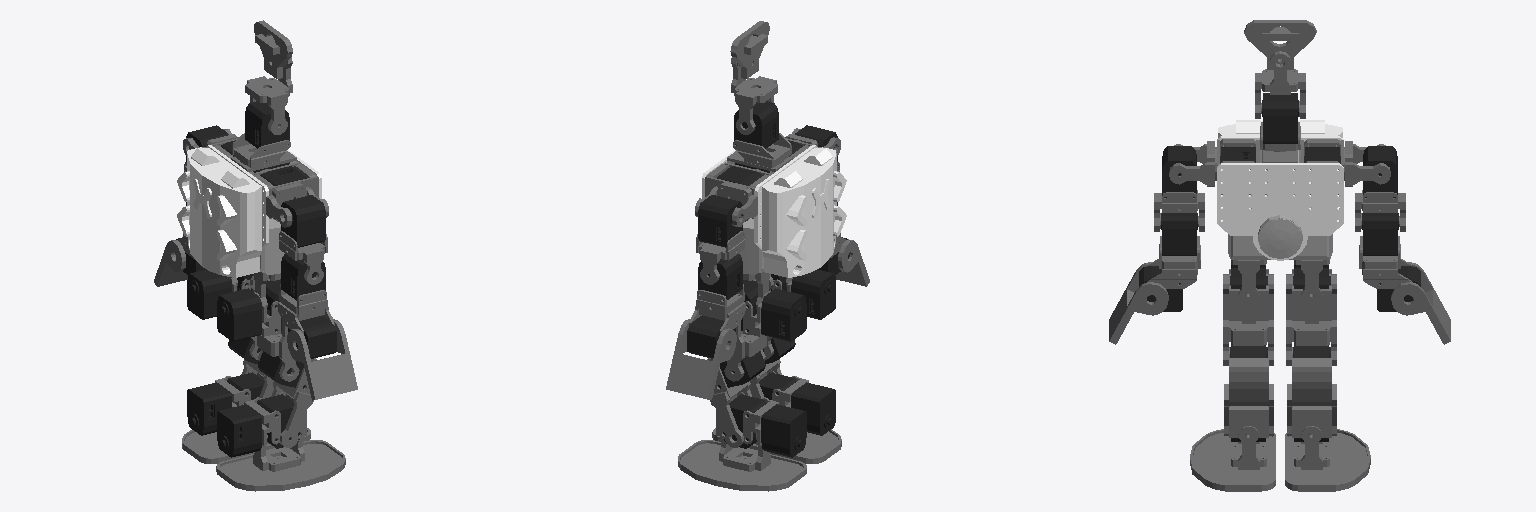
--- Facts derived from the render (not from the file) ---
The picture shows the robot from 3 angles, left to right: view 1: azimuth 30°, elevation 25°; view 2: azimuth 150°, elevation 25°; view 3: azimuth 270°, elevation 25°; orthographic projection.
Model kxrl2l5a3g with 25 links and 24 joints (18 revolute, 6 fixed), rooted at torso, posed all joints at 0.
Visible links, largest first — view 1: torso, RLEG_LINK4, RARM_LINK2, RLEG_LINK3, HEAD_LINK1, RLEG_LINK0, RARM_LINK1, LLEG_LINK3, RARM_LINK3, HEAD_LINK0, RLEG_LINK2, LLEG_LINK0 (+5 smaller); view 2: torso, LLEG_LINK4, LARM_LINK2, LLEG_LINK3, HEAD_LINK1, LARM_LINK1, LLEG_LINK0, RLEG_LINK3, LARM_LINK3, HEAD_LINK0, LLEG_LINK2, RLEG_LINK0 (+5 smaller); view 3: torso, RLEG_LINK4, LLEG_LINK4, HEAD_LINK1, RARM_LINK2, LARM_LINK2, RLEG_LINK2, LLEG_LINK2, LARM_LINK1, RARM_LINK1, HEAD_LINK0, LLEG_LINK1 (+9 smaller).
Link boxes in pixels (bbox=[...]): torso: bbox=[177, 138, 321, 306]; RLEG_LINK4: bbox=[216, 435, 345, 491]; RARM_LINK2: bbox=[278, 254, 336, 358]; RLEG_LINK3: bbox=[217, 392, 306, 457]; HEAD_LINK1: bbox=[245, 20, 292, 134]; RLEG_LINK0: bbox=[217, 279, 281, 341]; RARM_LINK1: bbox=[279, 195, 327, 284]; LLEG_LINK3: bbox=[187, 370, 264, 435]; RARM_LINK3: bbox=[287, 319, 357, 400]; HEAD_LINK0: bbox=[232, 101, 290, 168]; RLEG_LINK2: bbox=[258, 351, 316, 447]; LLEG_LINK0: bbox=[187, 269, 252, 319]; torso: bbox=[702, 138, 846, 308]; LLEG_LINK4: bbox=[678, 433, 806, 491]; LARM_LINK2: bbox=[687, 254, 745, 358]; LLEG_LINK3: bbox=[716, 392, 806, 457]; HEAD_LINK1: bbox=[730, 21, 777, 134]; LARM_LINK1: bbox=[696, 195, 744, 284]; LLEG_LINK0: bbox=[741, 280, 806, 341]; RLEG_LINK3: bbox=[759, 370, 835, 435]; LARM_LINK3: bbox=[666, 319, 736, 399]; HEAD_LINK0: bbox=[733, 101, 791, 167]; LLEG_LINK2: bbox=[707, 351, 765, 447]; RLEG_LINK0: bbox=[771, 269, 835, 319]; torso: bbox=[1215, 120, 1344, 304]; RLEG_LINK4: bbox=[1190, 426, 1275, 491]; LLEG_LINK4: bbox=[1285, 426, 1370, 491]; HEAD_LINK1: bbox=[1244, 20, 1316, 118]; RARM_LINK2: bbox=[1139, 213, 1200, 311]; LARM_LINK2: bbox=[1359, 213, 1420, 311]; RLEG_LINK2: bbox=[1224, 345, 1273, 435]; LLEG_LINK2: bbox=[1287, 345, 1336, 435]; LARM_LINK1: bbox=[1355, 146, 1405, 231]; RARM_LINK1: bbox=[1154, 146, 1204, 231]; HEAD_LINK0: bbox=[1260, 93, 1300, 150]; LLEG_LINK1: bbox=[1286, 274, 1336, 365].
Size in the robot's own frame: 0.1065 by 0.255 by 0.367 metres.
Meshes: 21 distinct files referenced, 21 mesh visuals loaded (21 Collada DAE).

The robot description file, URDF, robot "kxrl2l5a3g":
<?xml version="1.0"?>
<robot name="kxrl2l5a3g"
       xmlns:xi="http://www.w3.org/2001/XInclude">
  <link name="torso">
    <visual>
      <origin xyz="-8e-06 0 0.191982" rpy="0 -0 0"/>
      <geometry>
        <mesh filename="../meshes/torso_mesh.dae" scale="1 1 1" />
      </geometry>
    </visual>
    <collision>
      <origin xyz="-0.010000 0.00000 0.020000" rpy="0.00000000 -0.00000000 0.00000000"/>
      <geometry>
        <box size="0.07000 0.08 0.08" />
      </geometry>
    </collision>
    <inertial>
      <!-- from rcb4eus -->
      <!-- <mass value="0.583234" /> -->
      <!-- real robot w/o battery: 0.583234 - 0.296 = 0.287234; only compensate the real weight by torso adjustment -->
      <mass value="0.287234" />
      <origin xyz="0 0 0" rpy="0 -0 0"/>
      <inertia ixx="0.001179" ixy="-8.41182e-06" ixz="-1.70062e-06" iyy="0.001167" iyz="1.49116e-06" izz="0.001999"/>
    </inertial>
  </link>
  <link name="HEAD_LINK0">
    <visual>
      <origin xyz="-0.00725 0 0.061" rpy="0 -0 0"/>
      <geometry>
        <mesh filename="../meshes/HEAD_LINK0_mesh.dae" scale="1 1 1" />
      </geometry>
    </visual>
    <inertial>
      <mass value="0.03752" />
      <origin xyz="0.008278 -1.86739e-06 0.020216" rpy="0 -0 0"/>
      <inertia ixx="3.88837e-05" ixy="-3.94e-12" ixz="6.70242e-09" iyy="4.27546e-05" iyz="-6.02408e-09" izz="2.51931e-05"/>
    </inertial>
  </link>
  <link name="HEAD_LINK1">
    <visual>
      <origin xyz="0.0105 0 0.033" rpy="0 -0 0"/>
      <geometry>
        <mesh filename="../meshes/HEAD_LINK1_mesh.dae" scale="1 1 1" />
      </geometry>
    </visual>
    <collision>
      <origin xyz="0.00000 0.0000 -0.0080" rpy="0.00000000 -0.00000000 0.00000000"/>
      <geometry>
        <box size="0.025 0.025 0.03" />
      </geometry>
    </collision>
    <inertial>
      <mass value="0.024597" />
      <!-- <origin xyz="0.004067 2.59182e-19 0.008603" rpy="0 -0 0"/> -->
      <origin xyz="0.004067 4.0547e-19 0.008603" rpy="0 -0 0"/>
      <inertia ixx="9.7242e-05" ixy="-2.28993e-09" ixz="1.36484e-07" iyy="8.87817e-05" iyz="-1.71513e-08" izz="1.3887e-05"/>
    </inertial>
  </link>
  <link name="LARM_LINK0">
    <visual>
      <origin xyz="-0.00725 0.0485 0.0435" rpy="0 -0 0"/>
      <geometry>
        <mesh filename="../meshes/LARM_LINK0_mesh.dae" scale="1 1 1" />
      </geometry>
    </visual>
    <inertial>
      <mass value="0.01195" />
      <origin xyz="2.60209e-18 0 0.010386" rpy="0 -0 0"/>
      <inertia ixx="2.28576e-05" ixy="-9.80842e-10" ixz="6.34046e-10" iyy="1.18146e-05" iyz="1.5468e-08" izz="1.61687e-05"/>
    </inertial>
  </link>
  <link name="LARM_LINK1">
    <visual>
      <origin xyz="0 0.026 0" rpy="0 -0 0"/>
      <geometry>
        <mesh filename="../meshes/LARM_LINK1_mesh.dae" scale="1 1 1" />
      </geometry>
    </visual>
    <collision>
      <origin xyz="0.00000 0.0000 -0.0080" rpy="0.00000000 -0.00000000 0.00000000"/>
      <geometry>
        <box size="0.025 0.025 0.03" />
      </geometry>
    </collision>
    <collision>
      <origin xyz="0.0 0.0000 -0.030" rpy="0.00000000 -0.00000000 0.00000000"/>
      <geometry>
        <box size="0.028 0.028 0.006" />
      </geometry>
    </collision>
    <inertial>
      <mass value="0.041025" />
      <origin xyz="0 0 -0.01644" rpy="0 -0 0"/>
      <inertia ixx="5.49194e-05" ixy="-6.71102e-10" ixz="8.95645e-09" iyy="2.53332e-05" iyz="6.90862e-09" izz="5.98969e-05"/>
    </inertial>
  </link>
  <link name="LARM_LINK2">
    <visual>
      <origin xyz="0 0 -0.047" rpy="0 -0 0"/>
      <geometry>
        <mesh filename="../meshes/LARM_LINK2_mesh.dae" scale="1 1 1" />
      </geometry>
    </visual>
    <collision>
      <origin xyz="0.00000 0.0000 -0.008" rpy="0.00000000 -0.00000000 0.00000000"/>
      <geometry>
        <box size="0.025 0.025 0.03" />
      </geometry>
    </collision>
    <collision>
      <origin xyz="0.00000 0.0130 -0.055" rpy="0.00000000 -0.00000000 0.00000000"/>
      <geometry>
        <box size="0.025 0.03 0.025" />
      </geometry>
    </collision>
    <collision>
      <origin xyz="0.0 0.0000 -0.033" rpy="0.00000000 -0.00000000 0.00000000"/>
      <geometry>
        <box size="0.028 0.028 0.010" />
      </geometry>
    </collision>
    <inertial>
      <mass value="0.071724" />
      <origin xyz="0 0 -0.012787" rpy="0 -0 0"/>
      <inertia ixx="9.38809e-05" ixy="-3.94e-12" ixz="1.53141e-08" iyy="5.47619e-05" iyz="-1.12819e-08" izz="9.84962e-05"/>
    </inertial>
  </link>
  <link name="LARM_LINK3">
    <visual>
      <origin xyz="0 0.021 -0.0555" rpy="0 -0 0"/>
      <geometry>
        <mesh filename="../meshes/LARM_LINK3_mesh.dae" scale="1 1 1" />
      </geometry>
    </visual>
    <collision>
      <!-- <origin xyz="0.00000 0.0225 -0.022" rpy="${-1.0471975512 - 0.05} -0.00000000 0.00000000"/> -->
      <origin xyz="0.00000 0.0225 -0.022" rpy="-1.0971975512 -0.00000000 0.00000000"/>
      <geometry>
        <box size="0.04 0.03 0.006" />
      </geometry>
    </collision>
    <inertial>
      <mass value="0.013908" />
      <origin xyz="-3.46945e-18 0.035082 -0.036273" rpy="0 -0 0"/>
      <inertia ixx="5.39534e-05" ixy="-2.54028e-09" ixz="-2.35822e-09" iyy="2.3568e-05" iyz="-1.52851e-07" izz="4.68022e-05"/>
    </inertial>
  </link>
  <link name="LLEG_LINK0">
    <visual>
      <origin xyz="0 0.0235 -0.052" rpy="0 -0 0"/>
      <geometry>
        <mesh filename="../meshes/LLEG_LINK0_mesh.dae" scale="1 1 1" />
      </geometry>
    </visual>
    <collision>
      <origin xyz="-0.035 0.0000 -0.0080" rpy="0.00000000 -0.00000000 0.00000000"/>
      <geometry>
        <box size="0.025 0.025 0.03" />
      </geometry>
    </collision>
    <collision>
      <origin xyz="0.00000 0.0000 -0.0080" rpy="0.00000000 -0.00000000 0.00000000"/>
      <geometry>
        <box size="0.025 0.025 0.03" />
      </geometry>
    </collision>
    <inertial>
      <mass value="0.061776" />
      <origin xyz="-0.015804 -3.46945e-18 -0.00811" rpy="0 -0 0"/>
      <inertia ixx="4.81066e-05" ixy="1.50384e-08" ixz="-2.07075e-08" iyy="5.46135e-05" iyz="-1.15288e-07" izz="4.88736e-05"/>
    </inertial>
  </link>
  <link name="LLEG_LINK1">
    <visual>
      <origin xyz="0 0 0" rpy="0 -0 0"/>
      <geometry>
        <mesh filename="../meshes/LLEG_LINK1_mesh.dae" scale="1 1 1" />
      </geometry>
    </visual>
    <collision>
      <origin xyz="0.0 0.0000 -0.038" rpy="0.00000000 -0.00000000 0.00000000"/>
      <geometry>
        <box size="0.028 0.028 0.012" />
      </geometry>
    </collision>
    <inertial>
      <mass value="0.025166" />
      <origin xyz="2.87307e-19 -3.46945e-18 -0.032713" rpy="0 -0 0"/>
      <inertia ixx="6.74466e-05" ixy="-2.27142e-09" ixz="1.80148e-09" iyy="6.14497e-05" iyz="3.35902e-08" izz="1.35243e-05"/>
    </inertial>
  </link>
  <link name="LLEG_LINK2">
    <visual>
      <origin xyz="0 0 -0.058" rpy="0 -0 0"/>
      <geometry>
        <mesh filename="../meshes/LLEG_LINK2_mesh.dae" scale="1 1 1" />
      </geometry>
    </visual>
    <collision>
      <!-- <origin xyz="0.00000 0.00 -0.00" rpy="0.00000000 ${0.52359877559 - 0.07} 0.00000000"/> -->
      <!-- <origin xyz="0.00700 0.00 -0.003" rpy="0.00000000 0.45359877559 0.00000000"/> -->
      <origin xyz="0.01000 0.00 -0.0045" rpy="0.00000000 0.45359877559 0.00000000"/>
      <geometry>
        <box size="0.03 0.025 0.025" />
      </geometry>
    </collision>
    <inertial>
      <!-- from rcb4eus -->
      <mass value="0.055049" />
      <!-- real robot 3304R2: 0.055049 + 0.0073 = 0.062349 -->
      <!-- <mass value="0.062349" /> -->
      <origin xyz="0.010892 0 -0.013685" rpy="0 -0 0"/>
      <inertia ixx="0.00013" ixy="5.70585e-08" ixz="1.76606e-08" iyy="0.000122" iyz="-6.55478e-07" izz="3.84933e-05"/>
    </inertial>
  </link>
  <link name="LLEG_LINK3">
    <visual>
      <origin xyz="0 0 -0.057976" rpy="0 -0 0"/>
      <geometry>
        <mesh filename="../meshes/LLEG_LINK3_mesh.dae" scale="1 1 1" />
      </geometry>
    </visual>
    <collision>
      <origin xyz="-0.035 0.0000 0.0080" rpy="0.00000000 -0.00000000 0.00000000"/>
      <geometry>
        <box size="0.025 0.025 0.03" />
      </geometry>
    </collision>
    <collision>
      <origin xyz="0.00000 0.0000 0.0080" rpy="0.00000000 -0.00000000 0.00000000"/>
      <geometry>
        <box size="0.025 0.025 0.03" />
      </geometry>
    </collision>
    <inertial>
      <!-- from rcb4eus -->
      <mass value="0.061776" />
      <!-- real robot 3304R2 x 2: 0.061776 + 0.0073 x 2 = 0.076376 -->
      <!-- <mass value="0.076376" /> -->
      <origin xyz="-0.015804 -3.46945e-18 -0.00811" rpy="0 -0 0"/>
      <inertia ixx="0.000134" ixy="1.50384e-08" ixz="-2.07075e-08" iyy="0.00014" iyz="-1.15288e-07" izz="4.88736e-05"/>
    </inertial>
  </link>
  <link name="LLEG_LINK4">
    <visual>
      <origin xyz="0 0 0" rpy="0 -0 0"/>
      <geometry>
        <mesh filename="../meshes/LLEG_LINK4_mesh.dae" scale="1 1 1" />
      </geometry>
    </visual>
    <collision>
      <origin xyz="0.0 0.0000 -0.025" rpy="0.00000000 -0.00000000 0.00000000"/>
      <geometry>
        <box size="0.028 0.028 0.006" />
      </geometry>
    </collision>
    <!-- method 1: approximation by 1 box -->
    <!-- <collision> -->
    <!--   <!-\- <origin xyz="0.00000 0.0100 -0.029" rpy="0.00000000 -0.00000000 0.00000000"/> -\-> -->
    <!--   <origin xyz="0.00000 0.0100 -0.029" rpy="0.00000000 -0.00000000 0.00000000"/> -->
    <!--   <geometry> -->
    <!--     <box size="0.1 0.06 0.004" /> -->
    <!--     <!-\- <box size="0.1 0.04 0.004" /> -\-> -->
    <!--   </geometry> -->
    <!-- </collision> -->
    <!-- method 2: approximation by 2 boxes -->
    <collision>
      <!-- <origin xyz="0.00000 0.000 -0.029" rpy="0.00000000 -0.00000000 0.00000000"/> -->
      <!-- add small offset to avoid 2 feet get collisin -->
      <origin xyz="0.00000 0.0040 -0.029" rpy="0.00000000 -0.00000000 0.00000000"/>
      <geometry>
        <box size="0.1 0.04 0.004" />
      </geometry>
    </collision>
    <collision>
      <!-- <origin xyz="0.00000 0.0300 -0.029" rpy="0.00000000 -0.00000000 0.00000000"/> -->
      <!-- add small offset to avoid 2 feet get collisin -->
      <origin xyz="0.00000 0.03400 -0.029" rpy="0.00000000 -0.00000000 0.00000000"/>
      <geometry>
        <box size="0.08 0.02 0.004" />
      </geometry>
    </collision>
    <!-- method 3: approximation by overlay of 2 spheres and 1 box -->
    <!-- <collision> -->
    <!--   <origin xyz="0.02000 0.0100 -0.029" rpy="0.00000000 -0.00000000 0.00000000"/> -->
    <!--   <geometry> -->
    <!--     <cylinder length="0.004" radius="0.03" /> -->
    <!--   </geometry> -->
    <!-- </collision> -->
    <!-- <collision> -->
    <!--   <origin xyz="-0.02000 0.0100 -0.029" rpy="0.00000000 -0.00000000 0.00000000"/> -->
    <!--   <geometry> -->
    <!--     <cylinder length="0.004" radius="0.03" /> -->
    <!--   </geometry> -->
    <!-- </collision> -->
    <!-- <collision> -->
    <!--   <origin xyz="0.00000 0.0100 -0.029" rpy="0.00000000 -0.00000000 0.00000000"/> -->
    <!--   <geometry> -->
    <!--     <box size="0.06 0.06 0.004" /> -->
    <!--   </geometry> -->
    <!-- </collision> -->
    <inertial>
      <mass value="0.034088" />
      <origin xyz="-7.61549e-06 0.005841 -0.024808" rpy="0 -0 0"/>
      <inertia ixx="0.000284" ixy="6.51398e-09" ixz="1.25882e-08" iyy="0.000186" iyz="-2.42528e-07" izz="0.000103"/>
    </inertial>
  </link>
  <link name="RARM_LINK0">
    <visual>
      <origin xyz="-0.00725 -0.049 0.0435" rpy="0 -0 0"/>
      <geometry>
        <mesh filename="../meshes/RARM_LINK0_mesh.dae" scale="1 1 1" />
      </geometry>
    </visual>
    <inertial>
      <mass value="0.01195" />
      <origin xyz="2.60209e-18 0 0.010386" rpy="0 -0 0"/>
      <inertia ixx="2.30389e-05" ixy="-9.80842e-10" ixz="6.34046e-10" iyy="1.18146e-05" iyz="1.5468e-08" izz="1.63501e-05"/>
    </inertial>
  </link>
  <link name="RARM_LINK1">
    <visual>
      <origin xyz="0 -0.026 0" rpy="0 -0 0"/>
      <geometry>
        <mesh filename="../meshes/RARM_LINK1_mesh.dae" scale="1 1 1" />
      </geometry>
    </visual>
    <collision>
      <origin xyz="0.00000 0.0000 -0.00800" rpy="0.00000000 -0.00000000 0.00000000"/>
      <geometry>
        <box size="0.025 0.025 0.03" />
      </geometry>
    </collision>
    <collision>
      <origin xyz="0.0 0.0000 -0.030" rpy="0.00000000 -0.00000000 0.00000000"/>
      <geometry>
        <box size="0.028 0.028 0.006" />
      </geometry>
    </collision>
    <inertial>
      <mass value="0.041025" />
      <origin xyz="0 0 -0.01644" rpy="0 -0 0"/>
      <inertia ixx="5.53679e-05" ixy="-6.71102e-10" ixz="8.95645e-09" iyy="2.53332e-05" iyz="6.90862e-09" izz="6.03453e-05"/>
    </inertial>
  </link>
  <link name="RARM_LINK2">
    <visual>
      <origin xyz="0 0 -0.047" rpy="0 -0 0"/>
      <geometry>
        <mesh filename="../meshes/RARM_LINK2_mesh.dae" scale="1 1 1" />
      </geometry>
    </visual>
    <collision>
      <origin xyz="0.00000 0.0000 -0.008" rpy="0.00000000 -0.00000000 0.00000000"/>
      <geometry>
        <box size="0.025 0.025 0.03" />
      </geometry>
    </collision>
    <collision>
      <origin xyz="0.00000 -0.0130 -0.055" rpy="0.00000000 -0.00000000 0.00000000"/>
      <geometry>
        <box size="0.025 0.03 0.025" />
      </geometry>
    </collision>
    <collision>
      <origin xyz="0.0 0.0000 -0.033" rpy="0.00000000 -0.00000000 0.00000000"/>
      <geometry>
        <box size="0.028 0.028 0.010" />
      </geometry>
    </collision>
    <inertial>
      <mass value="0.071724" />
      <origin xyz="0 0 -0.012787" rpy="0 -0 0"/>
      <inertia ixx="9.45007e-05" ixy="-3.94e-12" ixz="1.53141e-08" iyy="5.47619e-05" iyz="-1.12819e-08" izz="9.91161e-05"/>
    </inertial>
  </link>
  <link name="RARM_LINK3">
    <visual>
      <origin xyz="0 -0.021 -0.0555" rpy="0 -0 0"/>
      <geometry>
        <mesh filename="../meshes/RARM_LINK3_mesh.dae" scale="1 1 1" />
      </geometry>
    </visual>
    <collision>
      <!-- <origin xyz="0.00000 -0.0225 -0.022" rpy="${1.0471975512 + 0.05} -0.00000000 0.00000000"/> -->
      <origin xyz="0.00000 -0.0225 -0.022" rpy="1.0971975512 -0.00000000 0.00000000"/>
      <geometry>
        <box size="0.04 0.03 0.006" />
      </geometry>
    </collision>
    <inertial>
      <mass value="0.013908" />
      <origin xyz="1.73472e-18 -0.035082 -0.036273" rpy="0 -0 0"/>
      <inertia ixx="5.42657e-05" ixy="-2.54028e-09" ixz="-2.35822e-09" iyy="2.3568e-05" iyz="-1.52851e-07" izz="4.71146e-05"/>
    </inertial>
  </link>
  <link name="RLEG_LINK0">
    <visual>
      <origin xyz="0 -0.0235 -0.052" rpy="0 -0 0"/>
      <geometry>
        <mesh filename="../meshes/RLEG_LINK0_mesh.dae" scale="1 1 1" />
      </geometry>
    </visual>
    <collision>
      <origin xyz="-0.035 0.0000 -0.0080" rpy="0.00000000 -0.00000000 0.00000000"/>
      <geometry>
        <box size="0.025 0.025 0.03" />
      </geometry>
    </collision>
    <collision>
      <origin xyz="0.00000 0.0000 -0.0080" rpy="0.00000000 -0.00000000 0.00000000"/>
      <geometry>
        <box size="0.025 0.025 0.03" />
      </geometry>
    </collision>
    <inertial>
      <mass value="0.061776" />
      <origin xyz="-0.015804 -3.46945e-18 -0.00811" rpy="0 -0 0"/>
      <inertia ixx="4.81066e-05" ixy="1.50384e-08" ixz="-2.07075e-08" iyy="5.46135e-05" iyz="-1.15288e-07" izz="4.88736e-05"/>
    </inertial>
  </link>
  <link name="RLEG_LINK1">
    <visual>
      <origin xyz="0 0 0" rpy="0 -0 0"/>
      <geometry>
        <mesh filename="../meshes/RLEG_LINK1_mesh.dae" scale="1 1 1" />
      </geometry>
    </visual>
    <collision>
      <origin xyz="0.0 0.0000 -0.038" rpy="0.00000000 -0.00000000 0.00000000"/>
      <geometry>
        <box size="0.028 0.028 0.012" />
      </geometry>
    </collision>
    <inertial>
      <mass value="0.025166" />
      <origin xyz="2.87307e-19 -3.46945e-18 -0.032713" rpy="0 -0 0"/>
      <inertia ixx="6.74466e-05" ixy="-2.27142e-09" ixz="1.80148e-09" iyy="6.14497e-05" iyz="3.35902e-08" izz="1.35243e-05"/>
    </inertial>
  </link>
  <link name="RLEG_LINK2">
    <visual>
      <origin xyz="0 0 -0.058" rpy="0 -0 0"/>
      <geometry>
        <mesh filename="../meshes/RLEG_LINK2_mesh.dae" scale="1 1 1" />
      </geometry>
    </visual>
    <collision>
      <!-- <origin xyz="0.00000 0.00 -0.00" rpy="0.00000000 ${0.52359877559 - 0.07} 0.00000000"/> -->
      <!-- <origin xyz="0.00700 0.00 -0.003" rpy="0.00000000 0.45359877559 0.00000000"/> -->
      <origin xyz="0.01000 0.00 -0.0045" rpy="0.00000000 0.45359877559 0.00000000"/>
      <geometry>
        <box size="0.03 0.025 0.025" />
      </geometry>
    </collision>
    <inertial>
      <!-- from rcb4eus -->
      <mass value="0.055049" />
      <!-- real robot 3304R2: 0.055049 + 0.0073 = 0.062349 -->
      <!-- <mass value="0.062349" /> -->
      <origin xyz="0.010892 0 -0.013685" rpy="0 -0 0"/>
      <inertia ixx="0.00013" ixy="5.70585e-08" ixz="1.76606e-08" iyy="0.000122" iyz="-6.55478e-07" izz="3.84933e-05"/>
    </inertial>
  </link>
  <link name="RLEG_LINK3">
    <visual>
      <origin xyz="0 0 -0.057976" rpy="0 -0 0"/>
      <geometry>
        <mesh filename="../meshes/RLEG_LINK3_mesh.dae" scale="1 1 1" />
      </geometry>
    </visual>
    <collision>
      <origin xyz="-0.035 0.0000 0.0080" rpy="0.00000000 -0.00000000 0.00000000"/>
      <geometry>
        <box size="0.025 0.025 0.03" />
      </geometry>
    </collision>
    <collision>
      <origin xyz="0.00000 0.0000 0.0080" rpy="0.00000000 -0.00000000 0.00000000"/>
      <geometry>
        <box size="0.025 0.025 0.03" />
      </geometry>
    </collision>
    <inertial>
      <!-- from rcb4eus -->
      <mass value="0.061776" />
      <!-- real robot 3304R2 x 2: 0.061776 + 0.0073 x 2 = 0.076376 -->
      <!-- <mass value="0.076376" /> -->
      <origin xyz="-0.015804 -3.46945e-18 -0.00811" rpy="0 -0 0"/>
      <inertia ixx="0.000134" ixy="1.50384e-08" ixz="-2.07075e-08" iyy="0.00014" iyz="-1.15288e-07" izz="4.88736e-05"/>
    </inertial>
  </link>
  <link name="RLEG_LINK4">
    <visual>
      <origin xyz="0 0 0" rpy="0 -0 0"/>
      <geometry>
        <mesh filename="../meshes/RLEG_LINK4_mesh.dae" scale="1 1 1" />
      </geometry>
    </visual>
    <collision>
      <origin xyz="0.0 0.0000 -0.025" rpy="0.00000000 -0.00000000 0.00000000"/>
      <geometry>
        <box size="0.028 0.028 0.006" />
      </geometry>
    </collision>
    <!-- method 1: approximation by 1 box -->
    <!-- <collision> -->
    <!--   <!-\- <origin xyz="0.00000 -0.0100 -0.029" rpy="0.00000000 -0.00000000 0.00000000"/> -\-> -->
    <!--   <origin xyz="0.00000 -0.0100 -0.029" rpy="0.00000000 -0.00000000 0.00000000"/> -->
    <!--   <geometry> -->
    <!--     <box size="0.1 0.06 0.004" /> -->
    <!--     <!-\- <box size="0.1 0.04 0.004" /> -\-> -->
    <!--   </geometry> -->
    <!-- </collision> -->
    <!-- method 2: approximation by 2 boxes -->
    <collision>
      <!-- <origin xyz="0.00000 -0.000 -0.029" rpy="0.00000000 -0.00000000 0.00000000"/> -->
      <!-- add small offset to avoid 2 feet get collisin -->
      <origin xyz="0.00000 -0.0040 -0.029" rpy="0.00000000 -0.00000000 0.00000000"/>
      <geometry>
        <box size="0.1 0.04 0.004" />
      </geometry>
    </collision>
    <collision>
      <!-- <origin xyz="0.00000 -0.0300 -0.029" rpy="0.00000000 -0.00000000 0.00000000"/> -->
      <!-- add small offset to avoid 2 feet get collisin -->
      <origin xyz="0.00000 -0.03400 -0.029" rpy="0.00000000 -0.00000000 0.00000000"/>
      <geometry>
        <box size="0.08 0.02 0.004" />
      </geometry>
    </collision>
    <!-- method 3: approximation by overlay of 2 spheres and 1 box -->
    <!-- <collision> -->
    <!--   <origin xyz="0.02000 -0.0100 -0.029" rpy="0.00000000 -0.00000000 0.00000000"/> -->
    <!--   <geometry> -->
    <!--     <cylinder length="0.004" radius="0.03" /> -->
    <!--   </geometry> -->
    <!-- </collision> -->
    <!-- <collision> -->
    <!--   <origin xyz="-0.02000 -0.0100 -0.029" rpy="0.00000000 -0.00000000 0.00000000"/> -->
    <!--   <geometry> -->
    <!--     <cylinder length="0.004" radius="0.03" /> -->
    <!--   </geometry> -->
    <!-- </collision> -->
    <!-- <collision> -->
    <!--   <origin xyz="0.00000 -0.0100 -0.029" rpy="0.00000000 -0.00000000 0.00000000"/> -->
    <!--   <geometry> -->
    <!--     <box size="0.06 0.06 0.004" /> -->
    <!--   </geometry> -->
    <!-- </collision> -->
    <inertial>
      <mass value="0.034088" />
      <origin xyz="7.61549e-06 -0.005841 -0.024808" rpy="0 -0 0"/>
      <inertia ixx="0.000284" ixy="6.51398e-09" ixz="1.25882e-08" iyy="0.000186" iyz="-2.42528e-07" izz="0.000103"/>
    </inertial>
  </link>
  <joint name="HEAD_JOINT0" type="fixed">
    <parent link="torso"/>
    <child  link="HEAD_LINK0"/>
    <origin xyz="-0.00725 0 0.061" rpy="0 -0 0 "/>
    <axis   xyz="0 0 1"/>
    <limit lower="-3.14159" upper="3.14159" effort="100" velocity="0.5" />
    <dynamics damping="0.2" friction="0" />
  </joint>
  <joint name="HEAD_JOINT1" type="fixed">
    <parent link="HEAD_LINK0"/>
    <child  link="HEAD_LINK1"/>
    <origin xyz="0.0105 0 0.033" rpy="0 -0 0 "/>
    <axis   xyz="0 1 0"/>
    <limit lower="-3.14159" upper="3.14159" effort="100" velocity="0.5" />
    <dynamics damping="0.2" friction="0" />
  </joint>
  <joint name="LARM_JOINT0" type="revolute">
    <parent link="torso"/>
    <child  link="LARM_LINK0"/>
    <origin xyz="-0.00725 0.0485 0.0435" rpy="0 -0 0 "/>
    <axis   xyz="0 1 0"/>
    <limit lower="-3.14159" upper="3.14159" effort="1.17655" velocity="7.47998" />
    <dynamics damping="0.2" friction="0" />
  </joint>
  <joint name="LARM_JOINT1" type="revolute">
    <parent link="LARM_LINK0"/>
    <child  link="LARM_LINK1"/>
    <origin xyz="0 0.026 0" rpy="0 -0 0 "/>
    <axis   xyz="1 0 0"/>
    <limit lower="-0.523599" upper="3.22886" effort="1.17655" velocity="7.47998" />
    <dynamics damping="0.2" friction="0" />
  </joint>
  <joint name="LARM_JOINT2" type="revolute">
    <parent link="LARM_LINK1"/>
    <child  link="LARM_LINK2"/>
    <origin xyz="0 0 -0.047" rpy="0 -0 0 "/>
    <axis   xyz="0 1 0"/>
    <limit lower="-2.96706" upper="2.96706" effort="1.17655" velocity="7.47998" />
    <dynamics damping="0.2" friction="0" />
  </joint>
  <joint name="LARM_JOINT3" type="revolute">
    <parent link="LARM_LINK2"/>
    <child  link="LARM_LINK3"/>
    <origin xyz="0 0.021 -0.0555" rpy="0 -0 0 "/>
    <axis   xyz="1 0 0"/>
    <limit lower="-1.74533" upper="1.74533" effort="1.17655" velocity="7.47998" />
    <dynamics damping="0.2" friction="0" />
  </joint>
  <joint name="RARM_JOINT0" type="revolute">
    <parent link="torso"/>
    <child  link="RARM_LINK0"/>
    <origin xyz="-0.00725 -0.049 0.0435" rpy="0 -0 0 "/>
    <axis   xyz="0 1 0"/>
    <limit lower="-3.14159" upper="3.14159" effort="1.17655" velocity="7.47998" />
    <dynamics damping="0.2" friction="0" />
  </joint>
  <joint name="RARM_JOINT1" type="revolute">
    <parent link="RARM_LINK0"/>
    <child  link="RARM_LINK1"/>
    <origin xyz="0 -0.026 0" rpy="0 -0 0 "/>
    <axis   xyz="1 0 0"/>
    <limit lower="-3.22886" upper="0.523599" effort="1.17655" velocity="7.47998" />
    <dynamics damping="0.2" friction="0" />
  </joint>
  <joint name="RARM_JOINT2" type="revolute">
    <parent link="RARM_LINK1"/>
    <child  link="RARM_LINK2"/>
    <origin xyz="0 0 -0.047" rpy="0 -0 0 "/>
    <axis   xyz="0 1 0"/>
    <limit lower="-2.96706" upper="2.96706" effort="1.17655" velocity="7.47998" />
    <dynamics damping="0.2" friction="0" />
  </joint>
  <joint name="RARM_JOINT3" type="revolute">
    <parent link="RARM_LINK2"/>
    <child  link="RARM_LINK3"/>
    <origin xyz="0 -0.021 -0.0555" rpy="0 -0 0 "/>
    <axis   xyz="-1 1.22465e-16 6.16298e-33"/>
    <limit lower="-1.74533" upper="1.74533" effort="1.17655" velocity="7.47998" />
    <dynamics damping="0.2" friction="0" />
  </joint>
  <joint name="LLEG_JOINT0" type="revolute">
    <parent link="torso"/>
    <child  link="LLEG_LINK0"/>
    <origin xyz="0 0.0235 -0.052" rpy="0 -0 0 "/>
    <axis   xyz="1 0 0"/>
    <limit lower="-2.35619" upper="2.32129" effort="1.17655" velocity="7.47998" />
    <dynamics damping="0.2" friction="0" />
  </joint>
  <joint name="LLEG_JOINT1" type="revolute">
    <parent link="LLEG_LINK0"/>
    <child  link="LLEG_LINK1"/>
    <origin xyz="0 0 0" rpy="0 -0 0 "/>
    <axis   xyz="0 1 0"/>
    <limit lower="-2.35619" upper="1.5708" effort="1.17655" velocity="7.47998" />
    <dynamics damping="0.2" friction="0" />
  </joint>
  <joint name="LLEG_JOINT2" type="revolute">
    <parent link="LLEG_LINK1"/>
    <child  link="LLEG_LINK2"/>
    <origin xyz="0 0 -0.058" rpy="0 -0 0 "/>
    <axis   xyz="0 1 0"/>
    <limit lower="-1.74533" upper="2.79253" effort="1.17655" velocity="7.47998" />
    <dynamics damping="0.2" friction="0" />
  </joint>
  <joint name="LLEG_JOINT3" type="revolute">
    <parent link="LLEG_LINK2"/>
    <child  link="LLEG_LINK3"/>
    <origin xyz="0 0 -0.057976" rpy="0 -0 0 "/>
    <axis   xyz="0 1 0"/>
    <limit lower="-1.8326" upper="1.8326" effort="1.17655" velocity="7.47998" />
    <dynamics damping="0.2" friction="0" />
  </joint>
  <joint name="LLEG_JOINT4" type="revolute">
    <parent link="LLEG_LINK3"/>
    <child  link="LLEG_LINK4"/>
    <origin xyz="0 0 0" rpy="0 -0 0 "/>
    <axis   xyz="1 0 0"/>
    <limit lower="-2.96706" upper="2.96706" effort="1.17655" velocity="7.47998" />
    <dynamics damping="0.2" friction="0" />
  </joint>
  <joint name="RLEG_JOINT0" type="revolute">
    <parent link="torso"/>
    <child  link="RLEG_LINK0"/>
    <origin xyz="0 -0.0235 -0.052" rpy="0 -0 0 "/>
    <axis   xyz="1 0 0"/>
    <limit lower="-2.35619" upper="2.32129" effort="1.17655" velocity="7.47998" />
    <dynamics damping="0.2" friction="0" />
  </joint>
  <joint name="RLEG_JOINT1" type="revolute">
    <parent link="RLEG_LINK0"/>
    <child  link="RLEG_LINK1"/>
    <origin xyz="0 0 0" rpy="0 -0 0 "/>
    <axis   xyz="0 1 0"/>
    <limit lower="-2.35619" upper="1.5708" effort="1.17655" velocity="7.47998" />
    <dynamics damping="0.2" friction="0" />
  </joint>
  <joint name="RLEG_JOINT2" type="revolute">
    <parent link="RLEG_LINK1"/>
    <child  link="RLEG_LINK2"/>
    <origin xyz="0 0 -0.058" rpy="0 -0 0 "/>
    <axis   xyz="0 1 0"/>
    <limit lower="-1.74533" upper="2.79253" effort="1.17655" velocity="7.47998" />
    <dynamics damping="0.2" friction="0" />
  </joint>
  <joint name="RLEG_JOINT3" type="revolute">
    <parent link="RLEG_LINK2"/>
    <child  link="RLEG_LINK3"/>
    <origin xyz="0 0 -0.057976" rpy="0 -0 0 "/>
    <axis   xyz="0 1 0"/>
    <limit lower="-1.8326" upper="1.8326" effort="1.17655" velocity="7.47998" />
    <dynamics damping="0.2" friction="0" />
  </joint>
  <joint name="RLEG_JOINT4" type="revolute">
    <parent link="RLEG_LINK3"/>
    <child  link="RLEG_LINK4"/>
    <origin xyz="0 0 0" rpy="0 -0 0 "/>
    <axis   xyz="1 0 0"/>
    <limit lower="-2.96706" upper="2.96706" effort="1.17655" velocity="7.47998" />
    <dynamics damping="0.2" friction="0" />
  </joint>

  <!-- Virtual Hand joint -->
  <joint name="l_hand_virtual_joint" type="fixed">
    <parent link="LARM_LINK3"/>
    <child link="l_hand_virtual"/>
    <origin rpy="0.0 0.0 0.0" xyz="0.0 0.0 0.0"/>
  </joint>
  <!-- Hand Virtual link for data acquire -->
  <link name="l_hand_virtual">
  </link>

  <!-- Virtual Hand joint -->
  <joint name="r_hand_virtual_joint" type="fixed">
    <parent link="RARM_LINK3"/>
    <child link="r_hand_virtual"/>
    <origin rpy="0.0 0.0 0.0" xyz="0.0 0.0 0.0"/>
  </joint>
  <!-- Hand Virtual link for data acquire -->
  <link name="r_hand_virtual">
  </link>

  <!-- Virtual Foot joint -->
  <joint name="l_foot_virtual_joint" type="fixed">
    <parent link="LLEG_LINK4"/>
    <child link="l_foot_virtual"/>
    <origin rpy="0.0 0.0 0.0" xyz="0.0 0.0 0.0"/>
  </joint>
  <!-- Foot Virtual link for data acquire -->
  <link name="l_foot_virtual">
  </link>

  <!-- Virtual Foot joint -->
  <joint name="r_foot_virtual_joint" type="fixed">
    <parent link="RLEG_LINK4"/>
    <child link="r_foot_virtual"/>
    <origin rpy="0.0 0.0 0.0" xyz="0.0 0.0 0.0"/>
  </joint>
  <!-- Foot Virtual link for data acquire -->
  <link name="r_foot_virtual">
  </link>
</robot>
